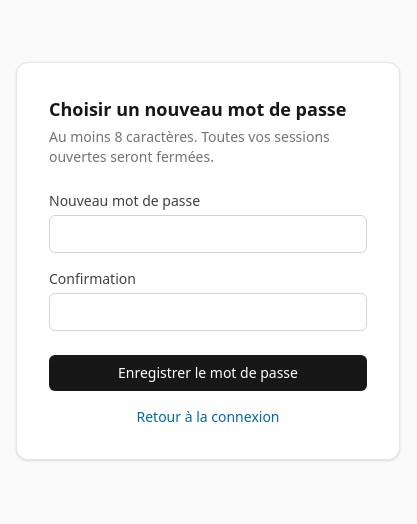
Scenario: <App /> › ouvre la réinitialisation depuis le lien #reset= puis revient à la connexion (#204)
Type "new-password" into the password field labelled "Nouveau mot de passe".
click(208, 234); type("new-password")  # box [49, 215, 367, 253]
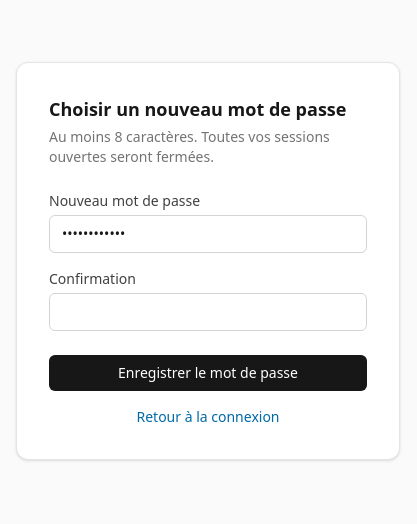
Type "new-password" into the password field labelled "Confirmation".
click(208, 312); type("new-password")  # box [49, 293, 367, 331]
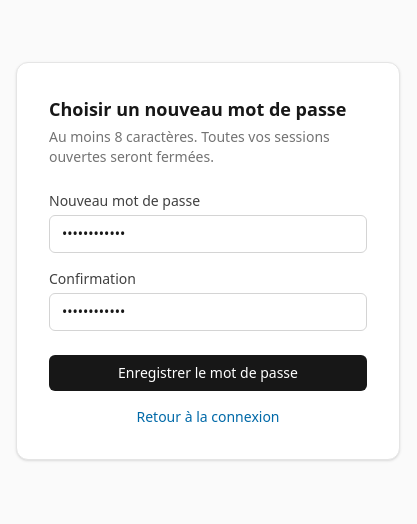
Click the button "Enregistrer le mot de passe".
click(208, 373)  # box [49, 355, 367, 391]
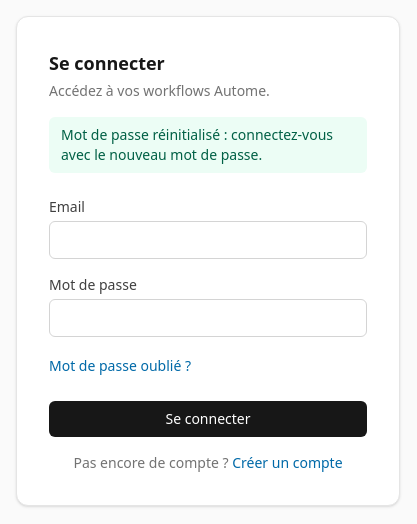
Check: the message shows "réinitialisé", box [61, 125, 333, 164]
